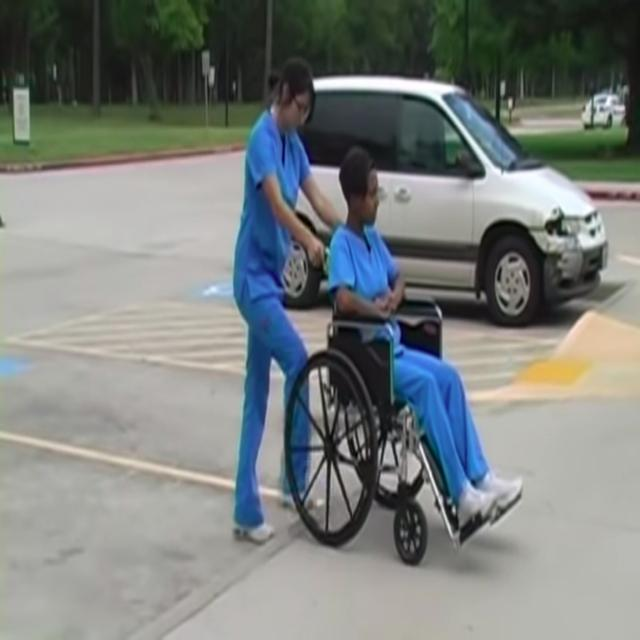wheelchairs: (284, 235, 450, 573)
